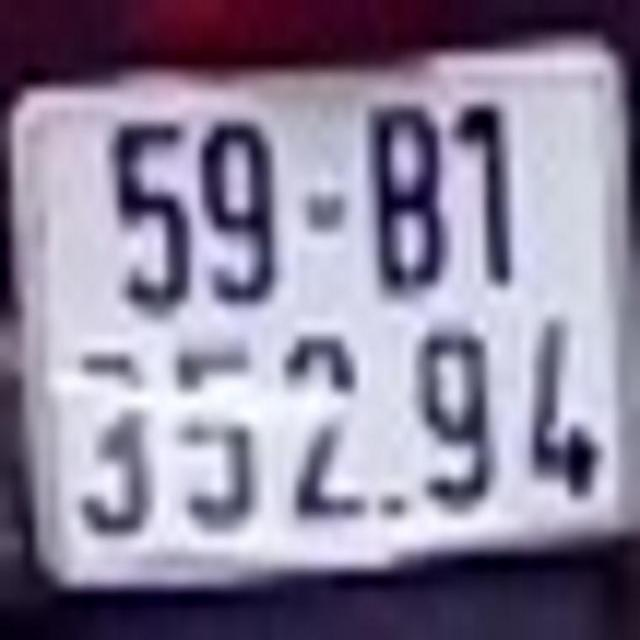1: (465, 96, 519, 287)
2: (270, 317, 380, 514)
3: (69, 348, 160, 535)
4: (520, 307, 606, 504)
5: (109, 110, 198, 318), (168, 345, 258, 528)
9: (408, 308, 504, 514), (200, 114, 282, 313)
B: (365, 101, 446, 292)
